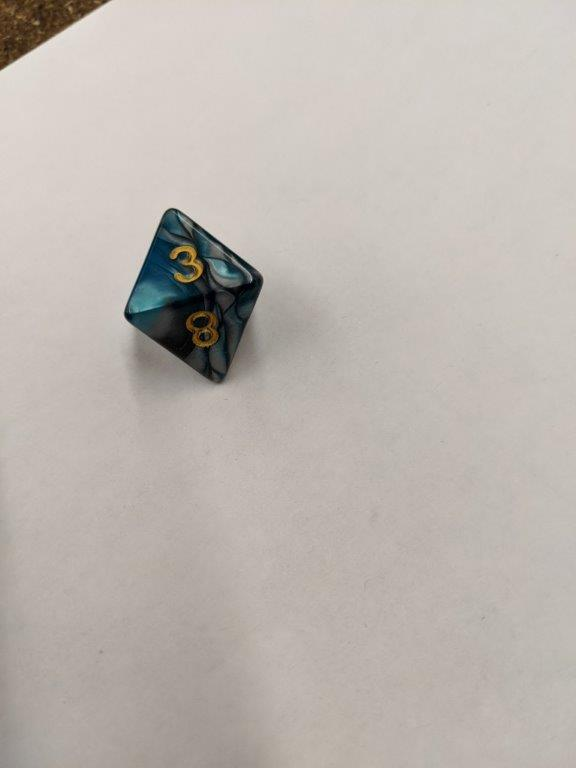d8-3: (122, 206, 264, 387)
